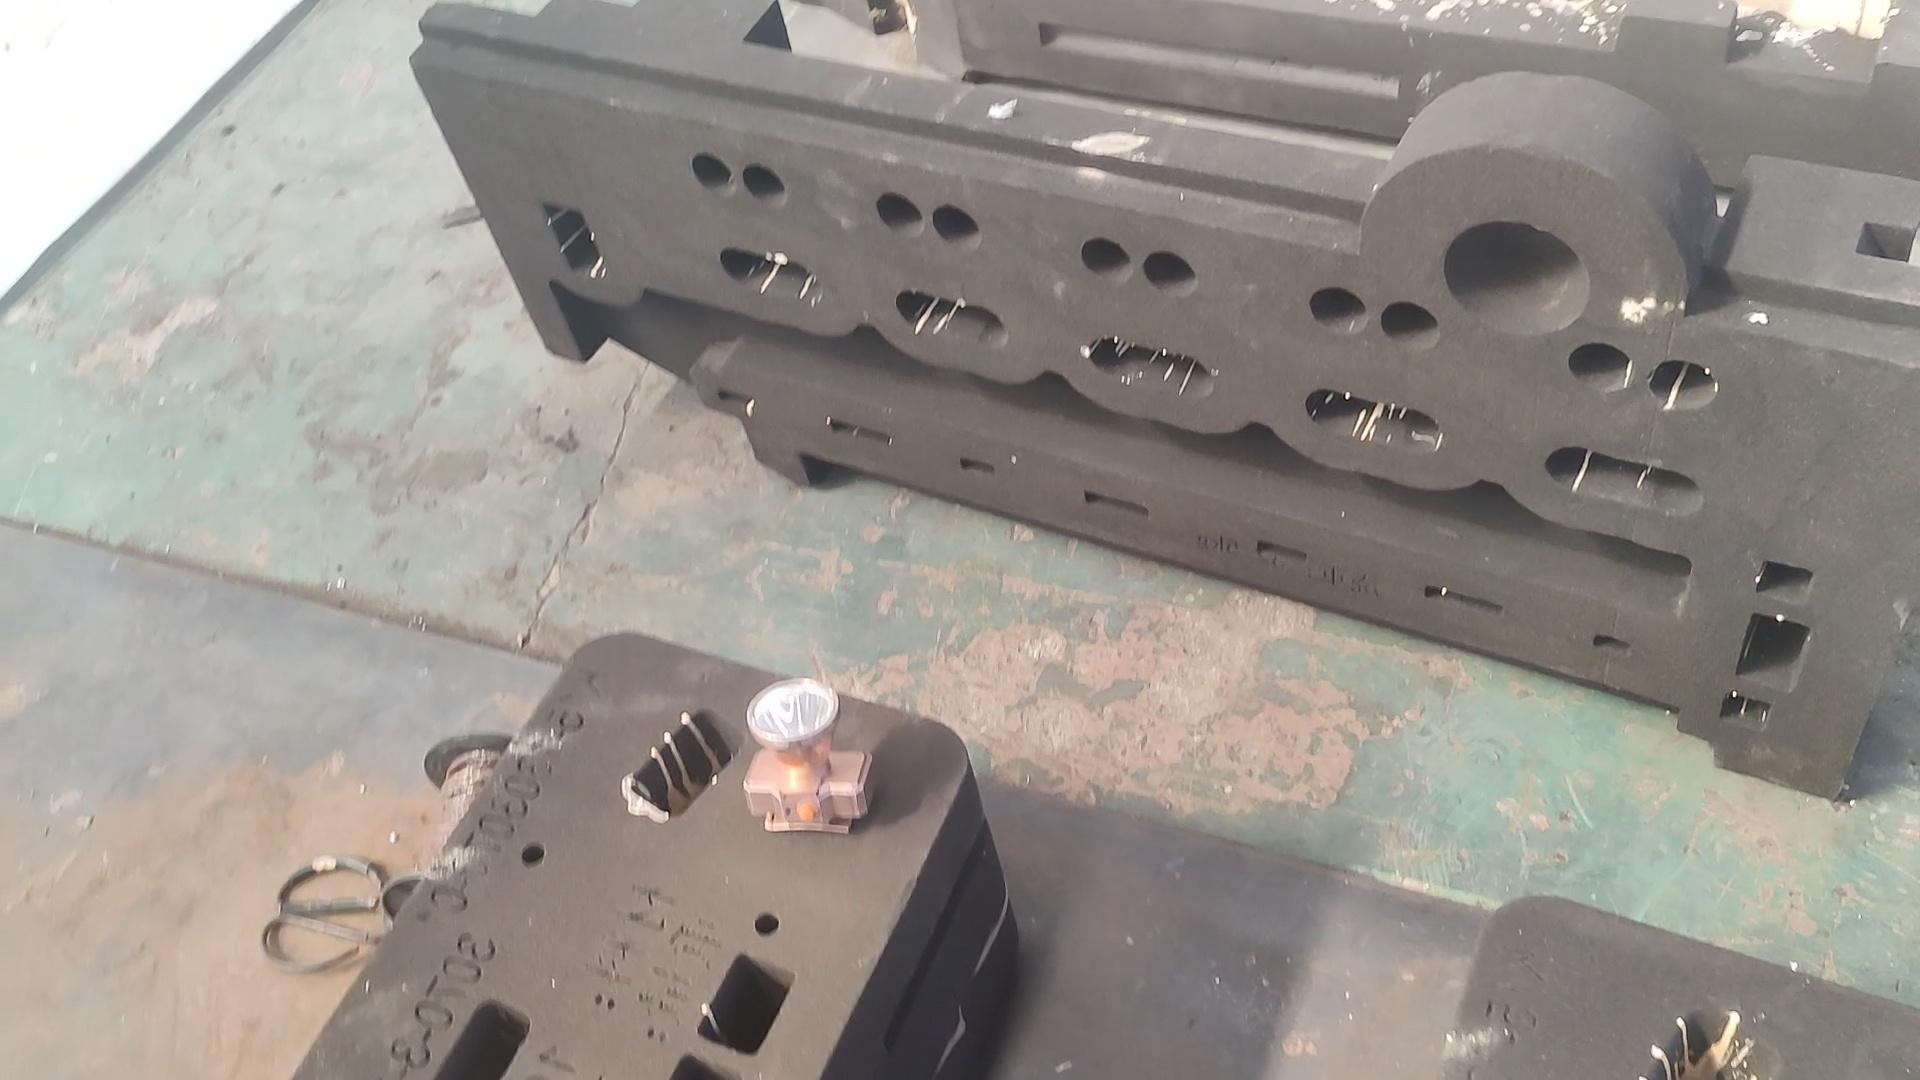pouring hole: (1444, 222, 1590, 338)
